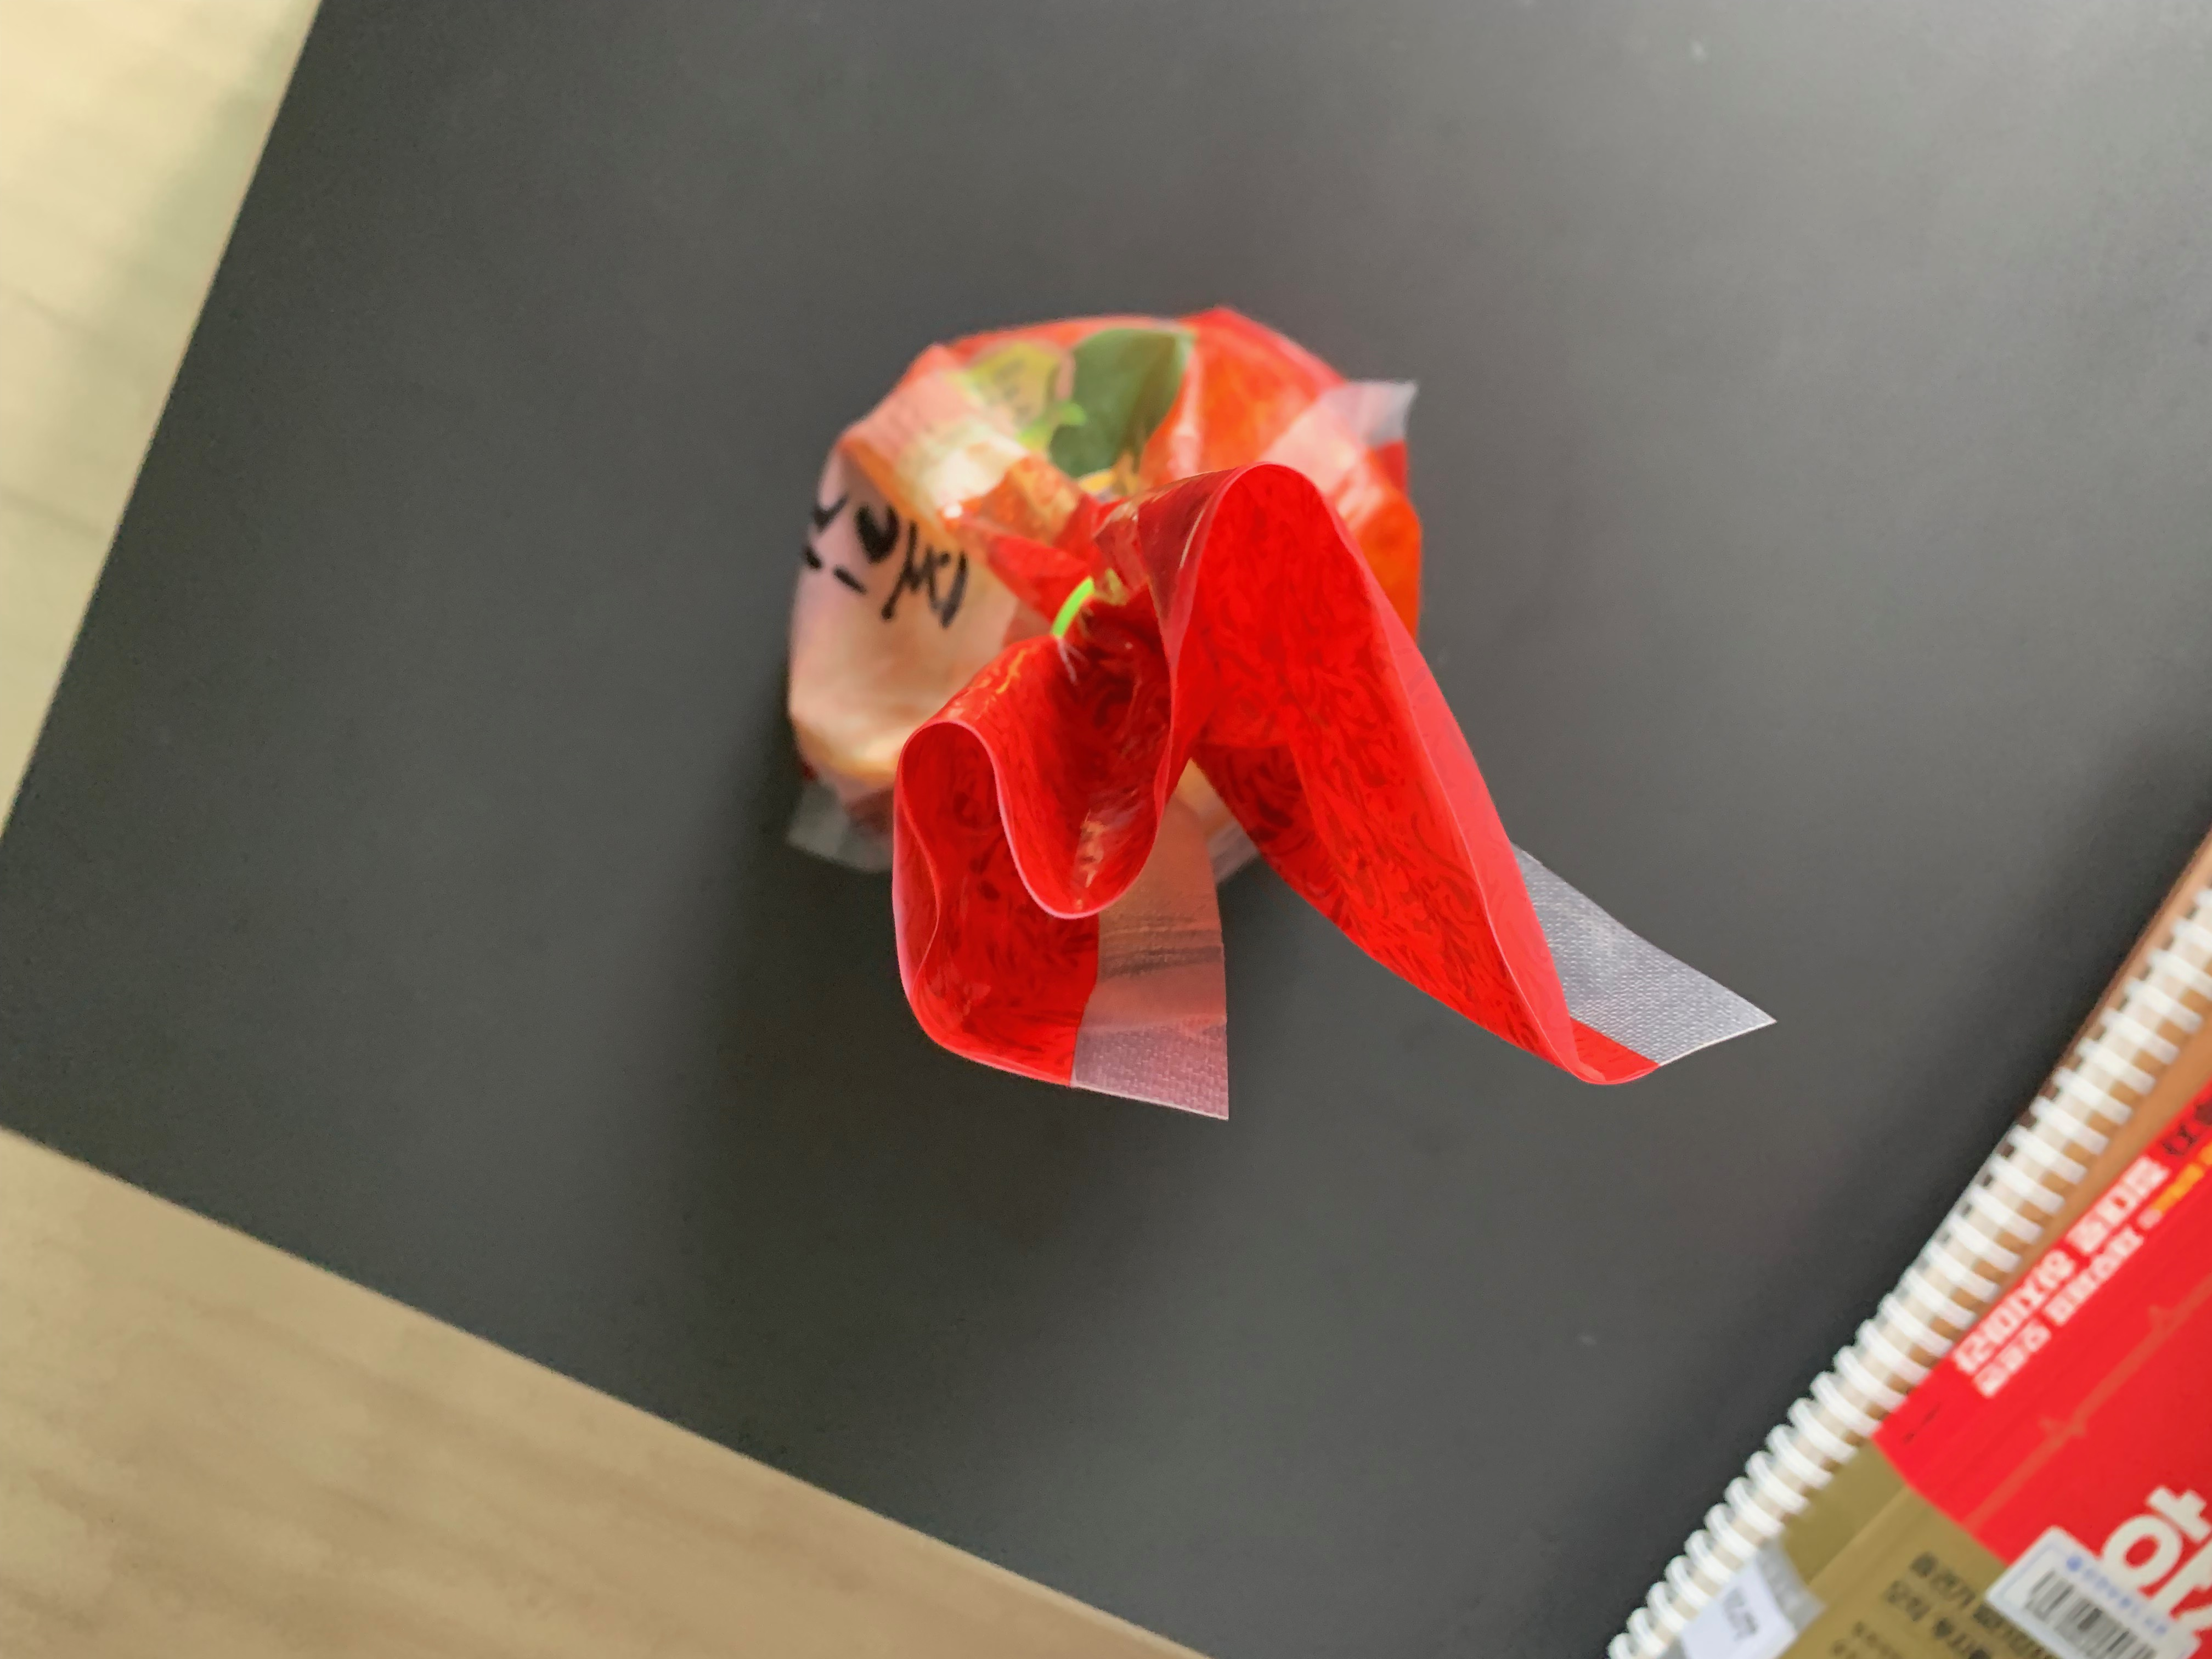kimchi: (782, 310, 1649, 1093)
